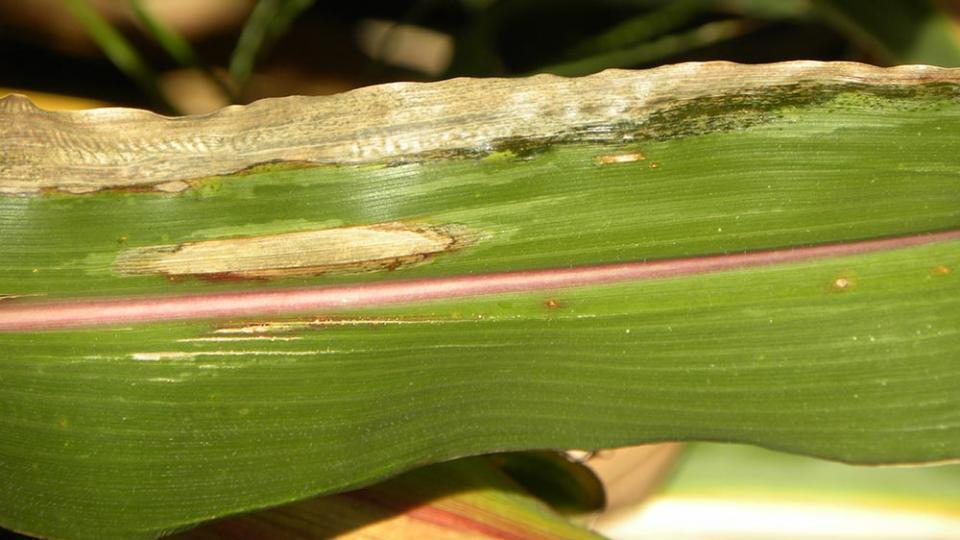Corn_Blight: (7, 63, 960, 199), (74, 211, 502, 290), (120, 316, 473, 391), (531, 281, 576, 335), (817, 247, 868, 294)
